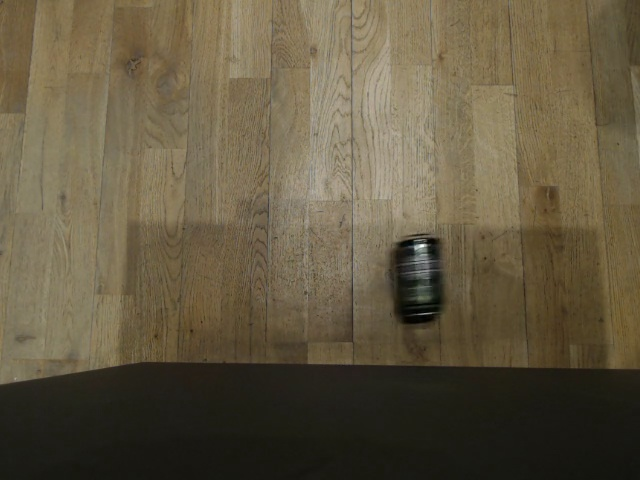beer: (392, 234, 445, 324)
